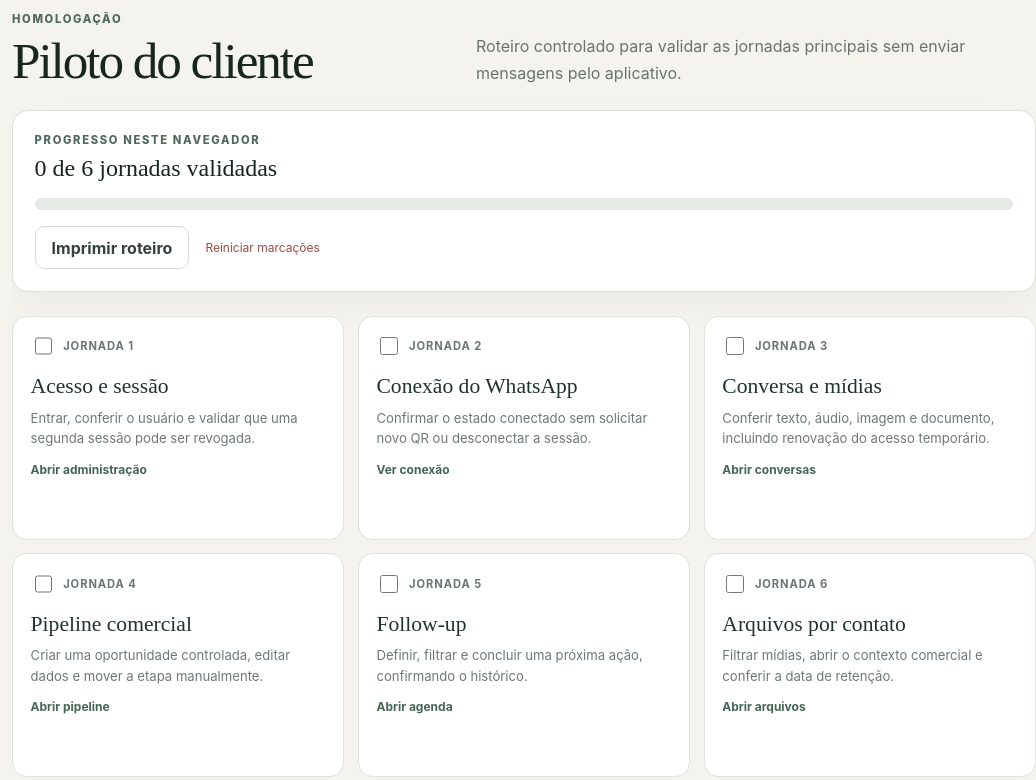
Test case: checklist do piloto › orienta as jornadas e preserva marcações somente no navegador
Expected: the heading "0 de 6 jornadas validadas" is shown, [35,155,277,181]
Expected: the progress indicator named "0% do checklist concluído" holds "0", [35,198,1013,210]
Click the checkbox labelled "Jornada 1": [43, 346] box [35,337,52,355]
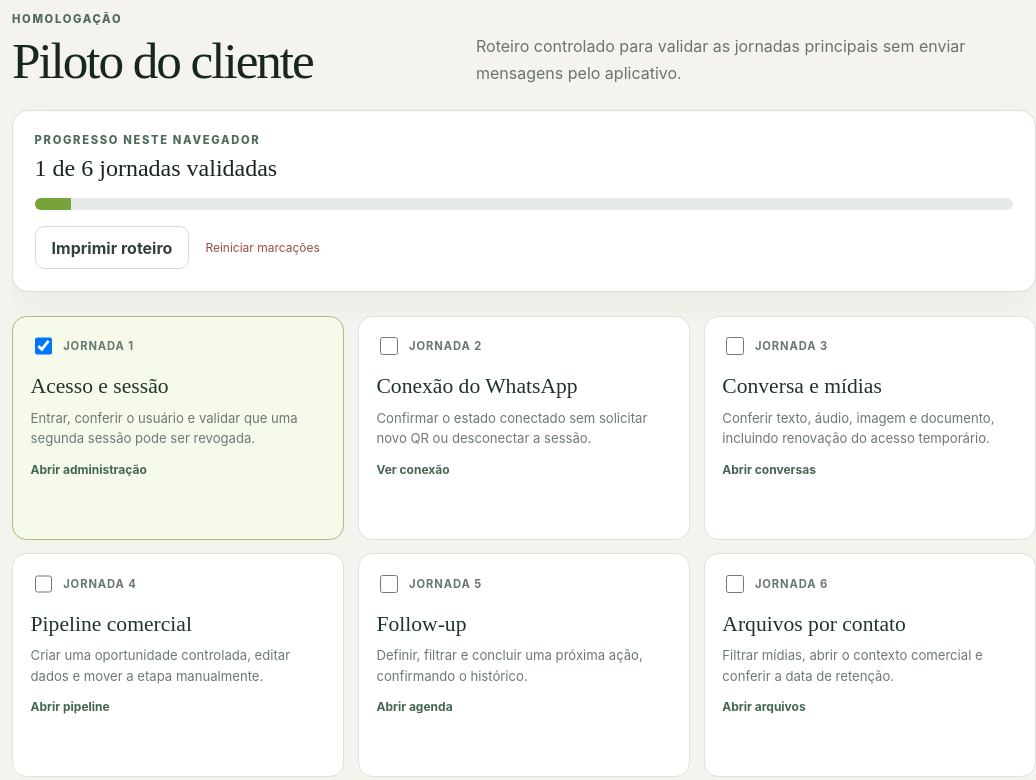
Expected: the progress indicator named "17% do checklist concluído" holds "1", [35,198,1013,210]
Result: the heading "1 de 6 jornadas validadas" is shown at [35,155,277,181]
